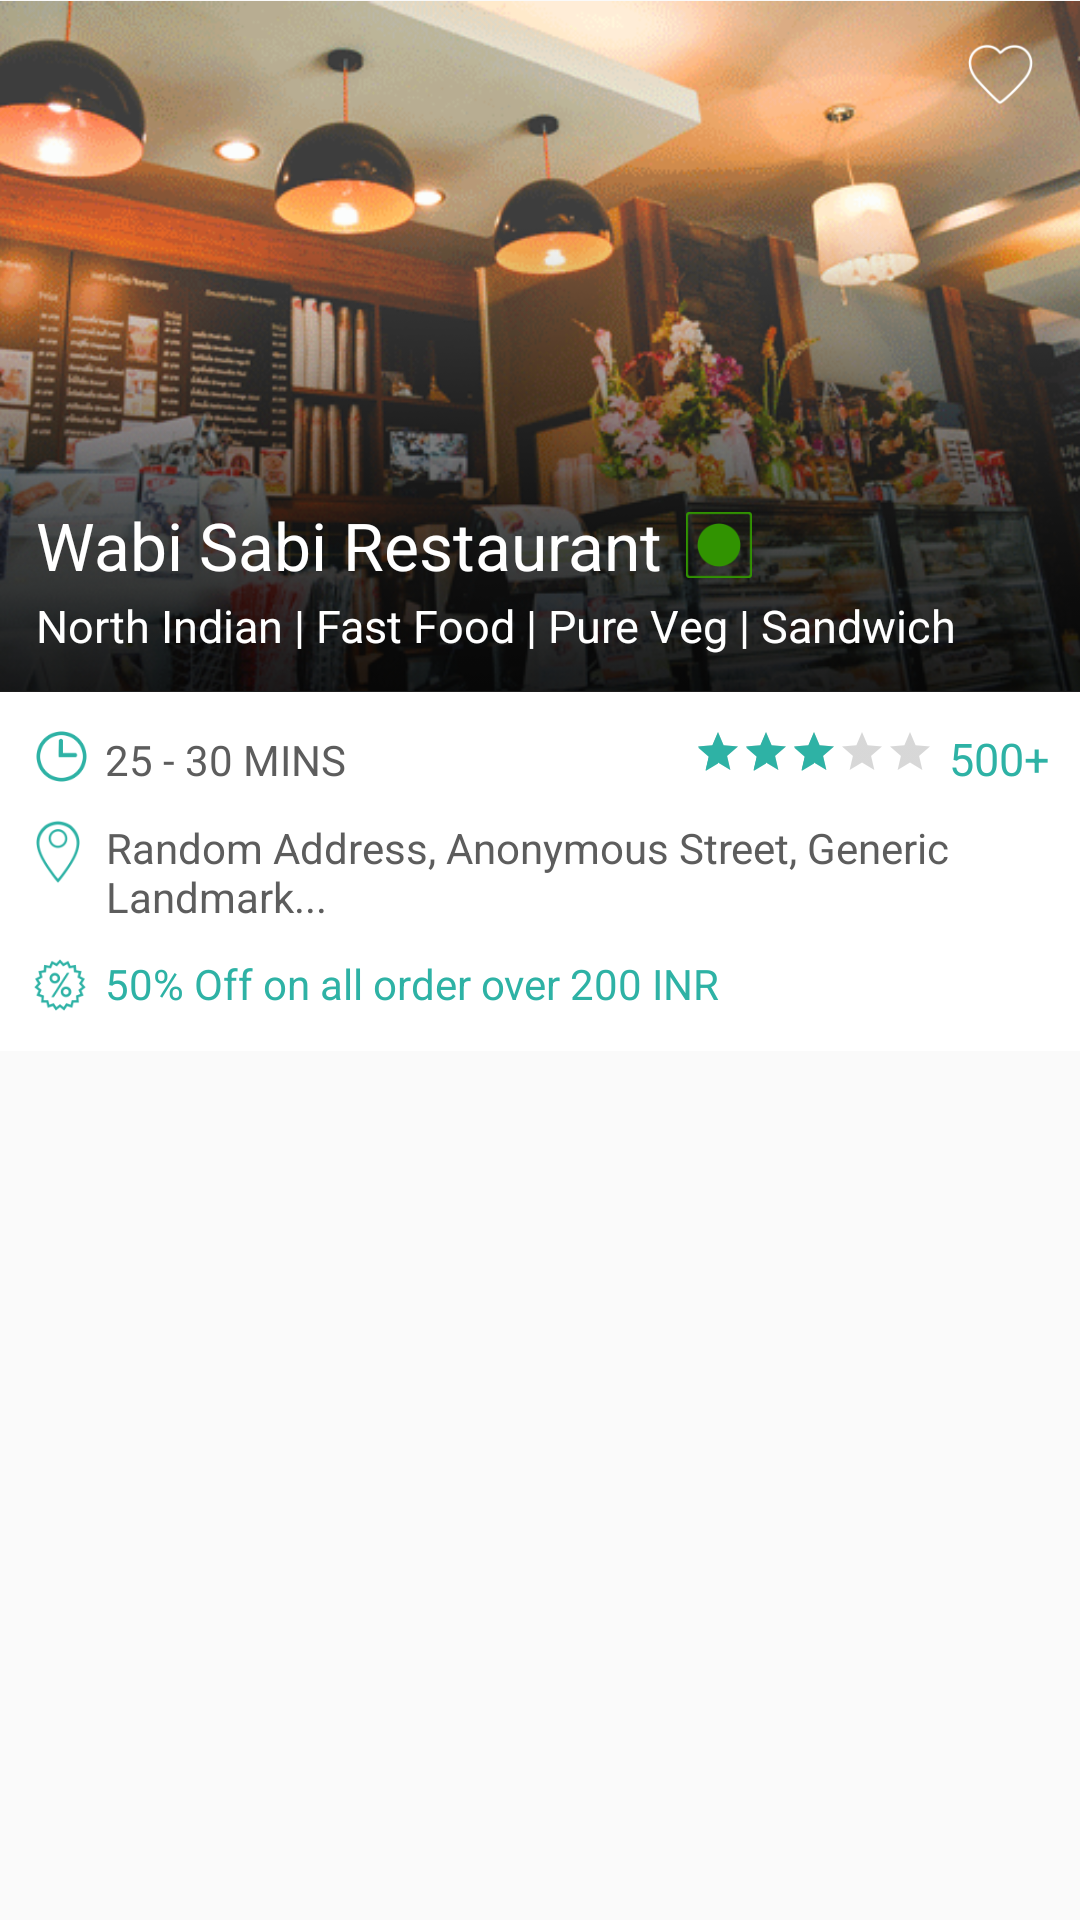

Icons on this 1080px x 1920px Android screen, each with the point to tap as point (x, y):
fav: point (1000, 74)
map: point (58, 852)
time: point (61, 756)
